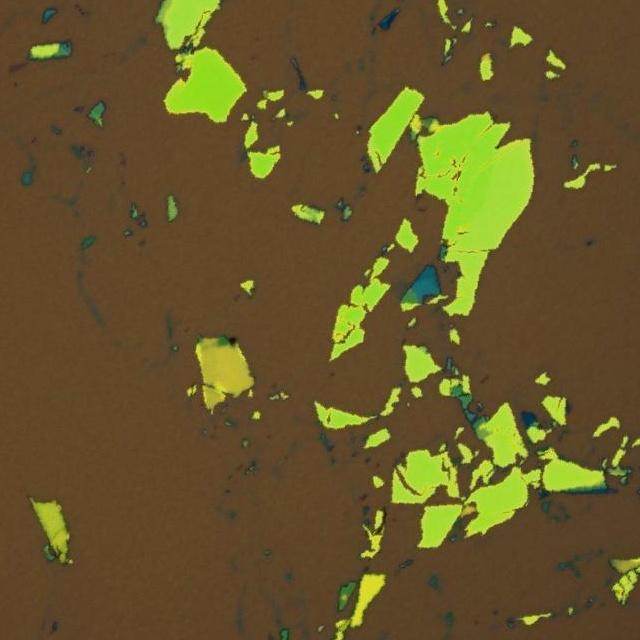monolayer-eWW4: (8, 62, 27, 74)
